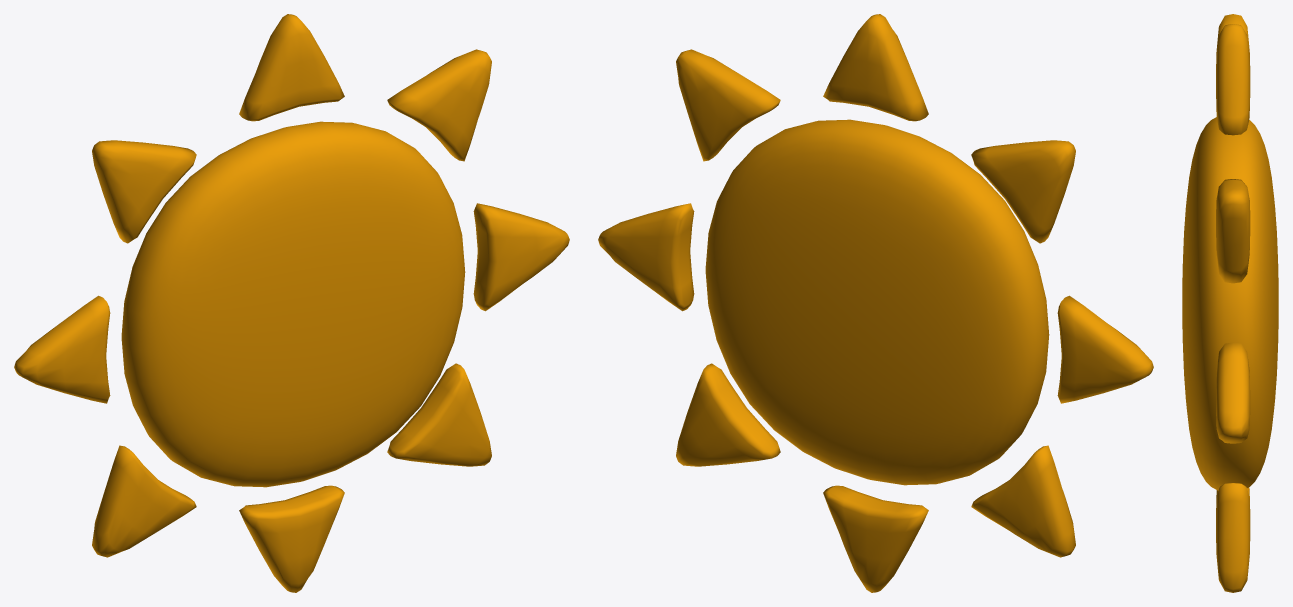
The model's file is sun.glb.
The picture shows the model from 3 angles, left to right: view 1: azimuth 30°, elevation 25°; view 2: azimuth 150°, elevation 25°; view 3: azimuth 270°, elevation 25°; orthographic projection. The views are drawn at different scales.
Parts seen in each view (by area): view 1: 立方体.004; view 2: 立方体.004; view 3: 立方体.004.
Boxes of the visible parts, bbox=[...] form: 立方体.004: bbox=[14, 14, 569, 592]; 立方体.004: bbox=[598, 14, 1153, 592]; 立方体.004: bbox=[1182, 14, 1278, 592].
Bounding box in the file's own units: 1 × 1 × 0.1569.
